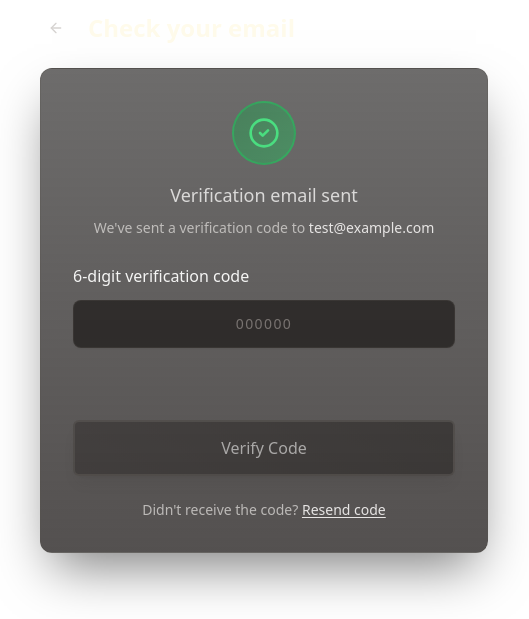
Test case: SignUpVerification - Resend Functionality › cooldown timer › should start cooldown timer after successful resend
This screenshot has width=529, height=619.
Note: Click resend
What coordinates should you click on to do the following:
click the button "Resend code"
I would click on:
 (344, 510)
Its box is [302,500,386,520].
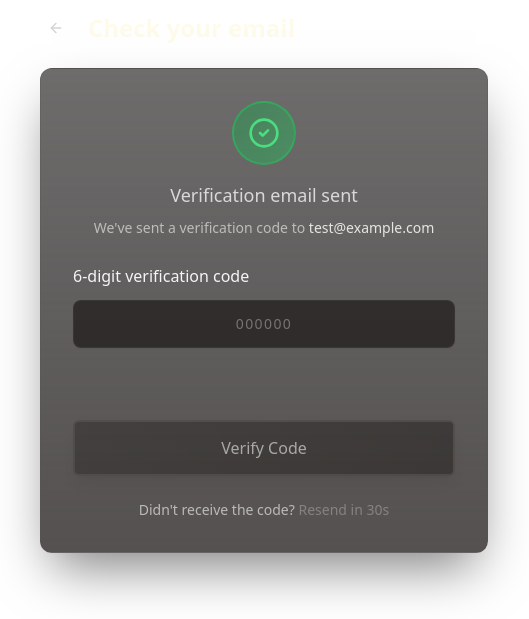
Check: the text "Resend in 30s" is shown, box [298,500,389,519]
